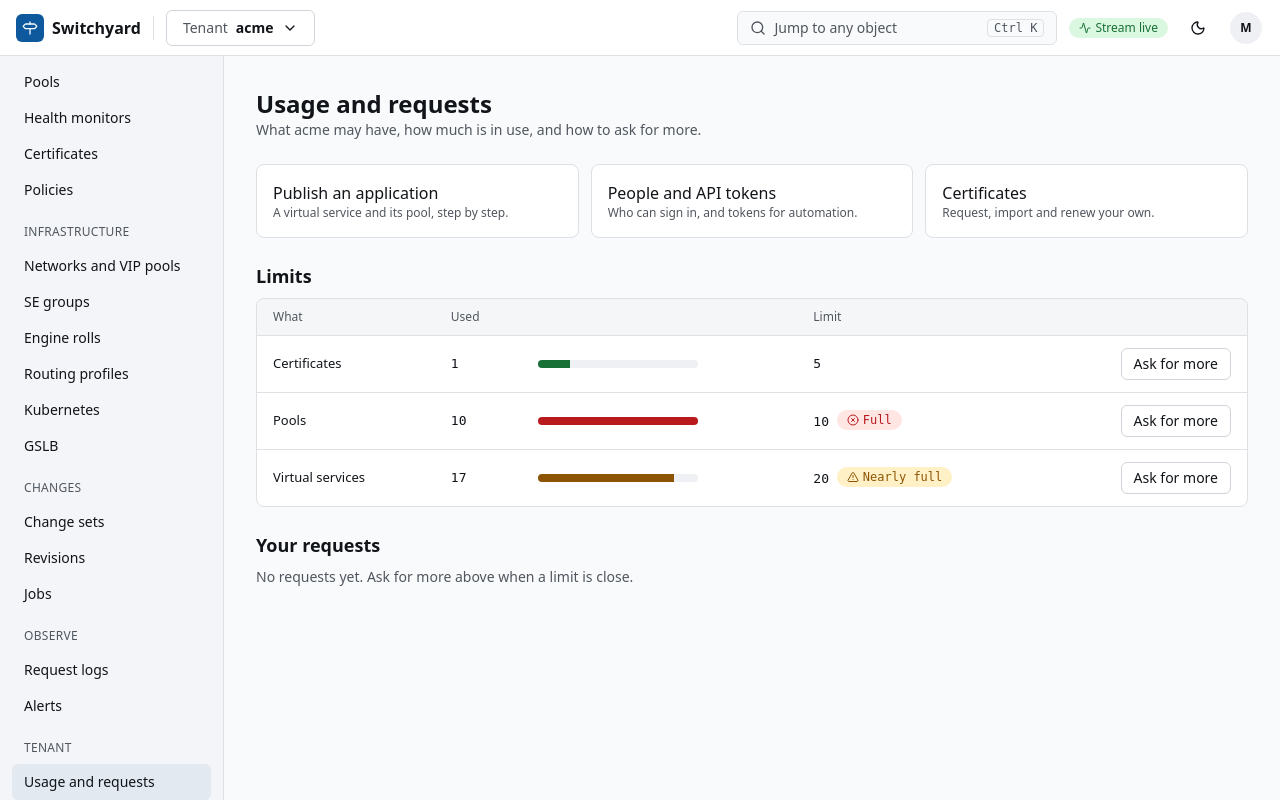
Scenario: tenant portal › shows the API's reason when a request is refused
(page scrolled)
Click the button with aria-label "Ask for more pools": (1176, 421) [1121,405,1231,437]
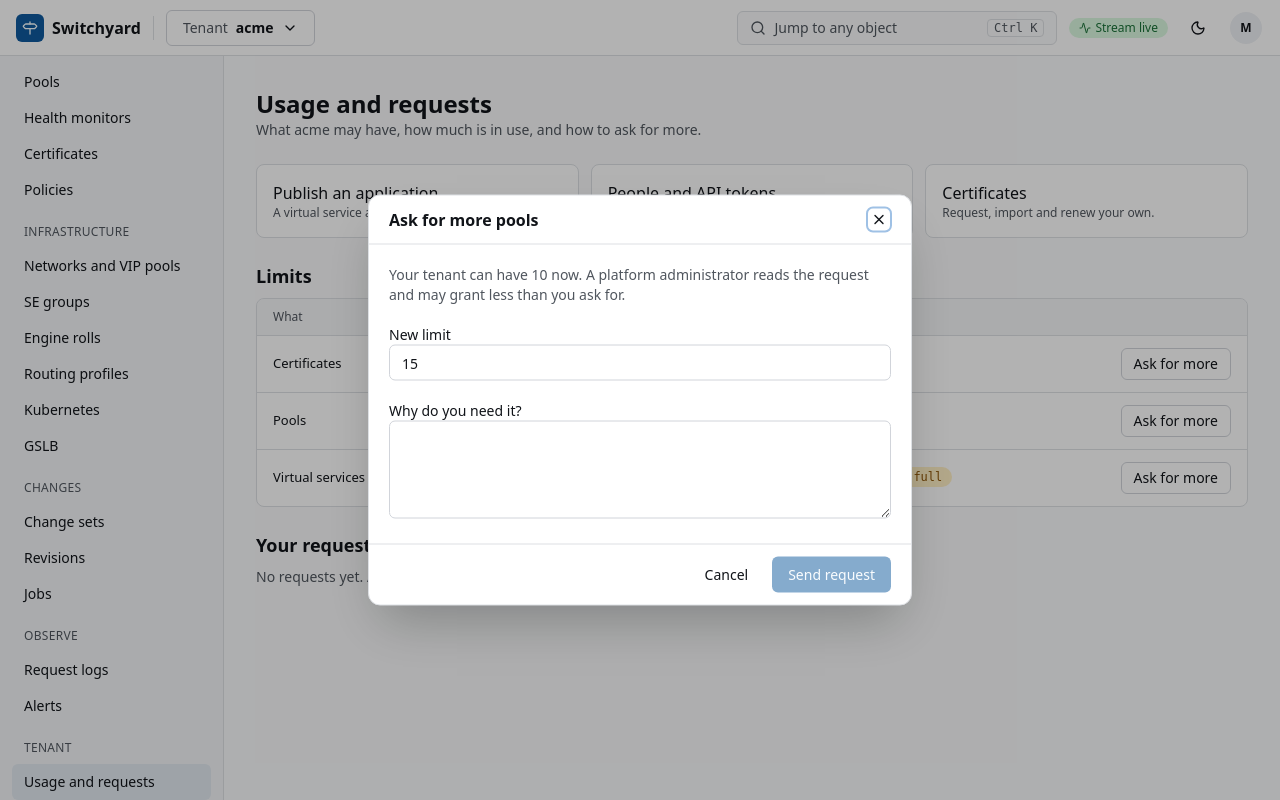
In the text box labelled "Why do you need it?": (640, 470) [389,420,891,518], type "x"
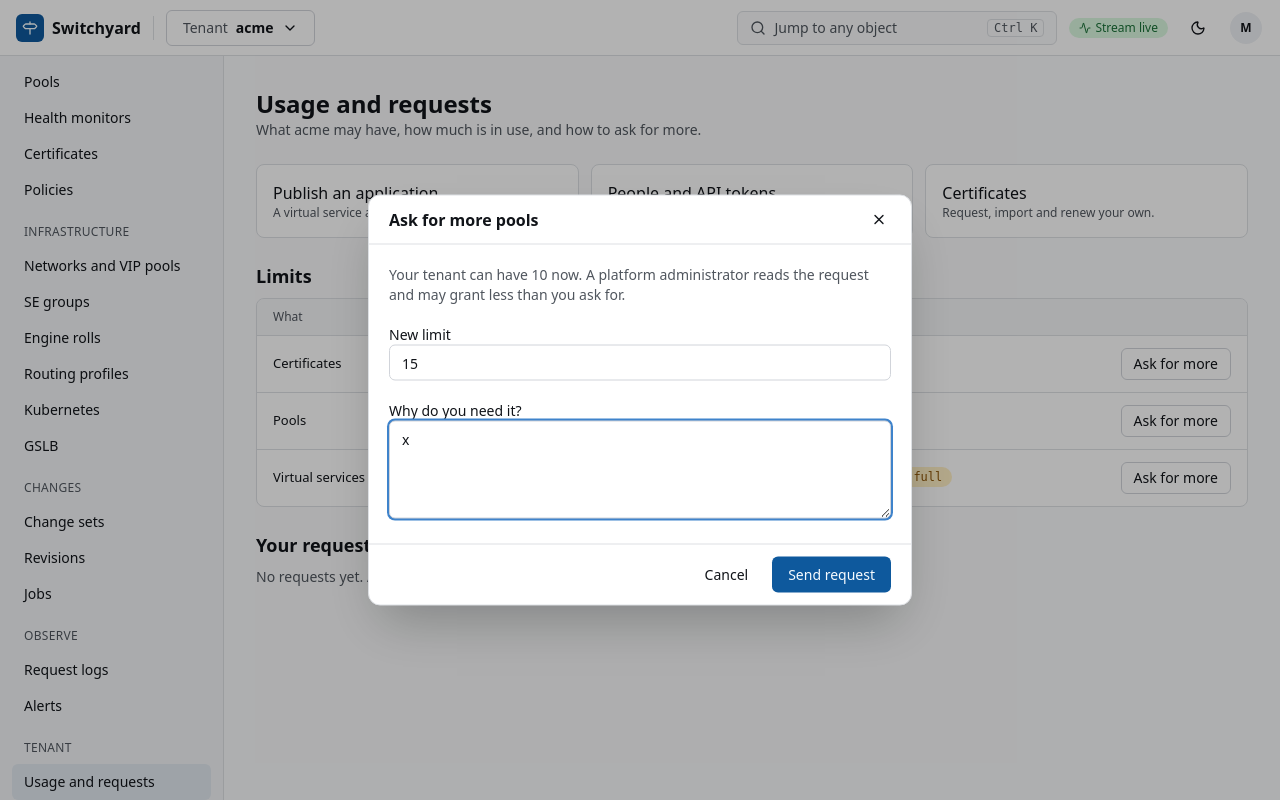
Click the button "Send request": (832, 574) [772,556,891,592]
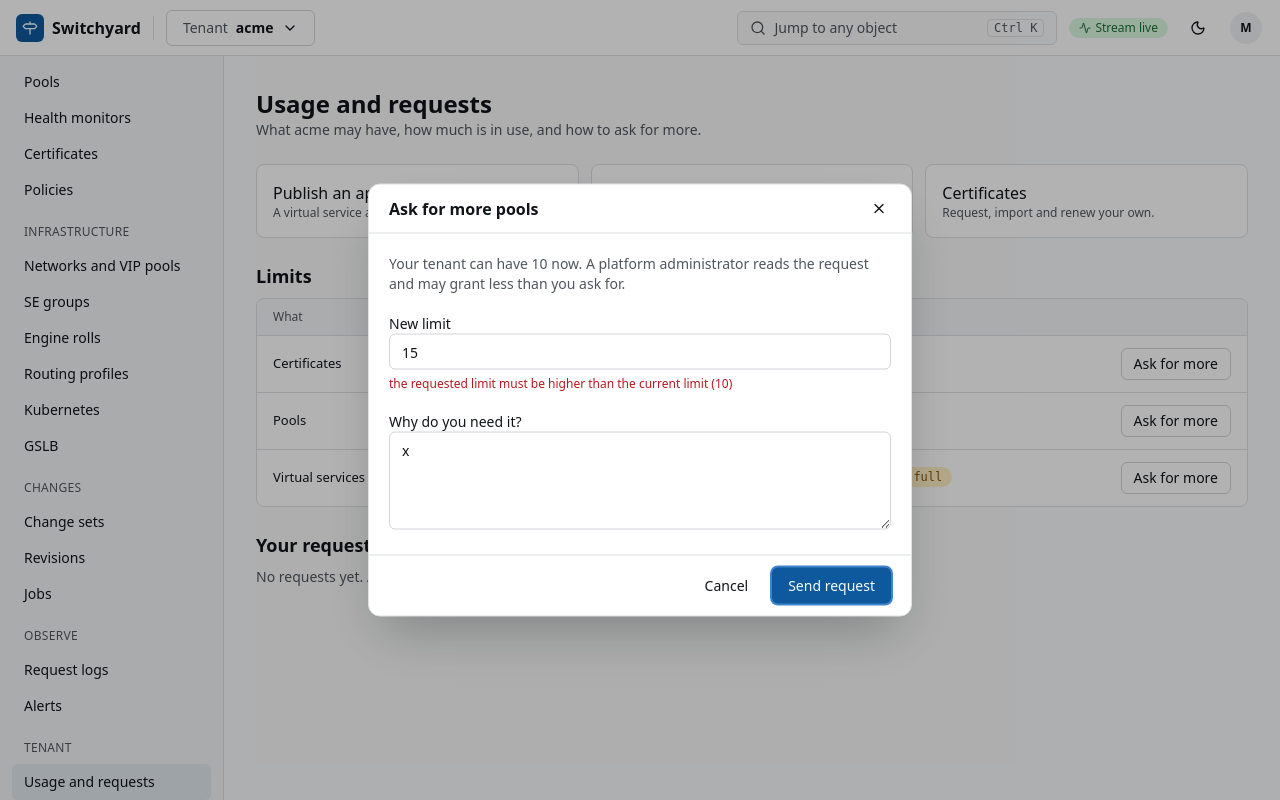
Now the text "the requested limit must be higher than the current limit (10)" is shown, box [389,374,732,392]
